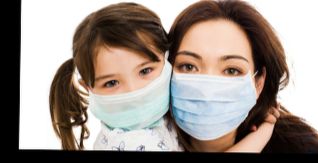with_mask: (170, 49, 254, 142), (85, 57, 172, 127)
